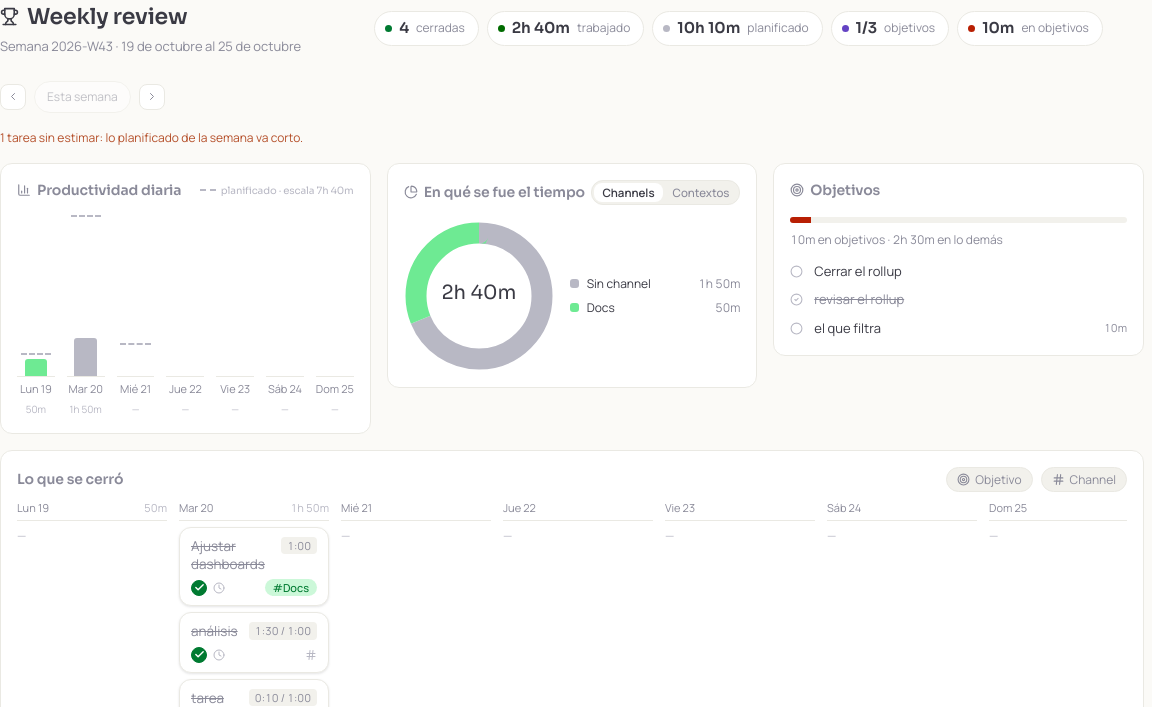
Test: WeeklyReviewView › hacer click en un objetivo filtra lo que se cerró
Click the button "el que filtra". click: (848,328)
box: [810,318,1097,339]
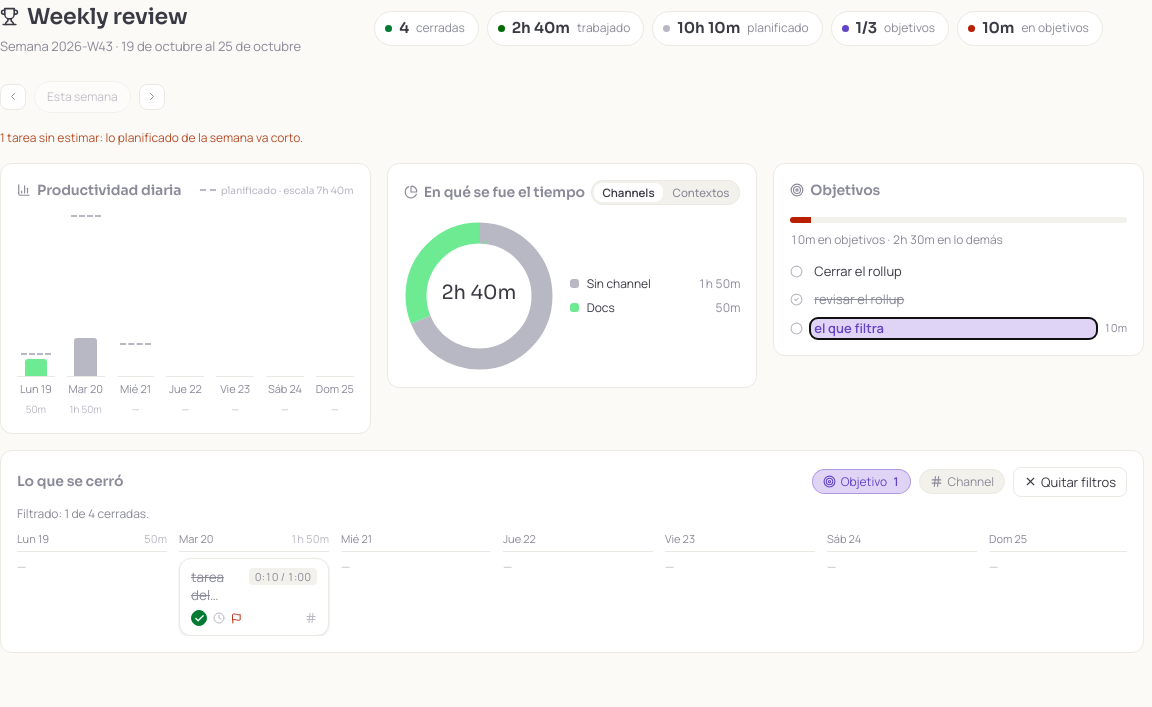
Expected: the text "tarea sin objetivo" is not shown
Expected: the text "tarea del objetivo" is shown, [191,568,241,604]
# Y el mismo click lo apaga.
Click the button "el que filtra". click: (849,328)
box: [810,318,1097,339]
(page scrolled)
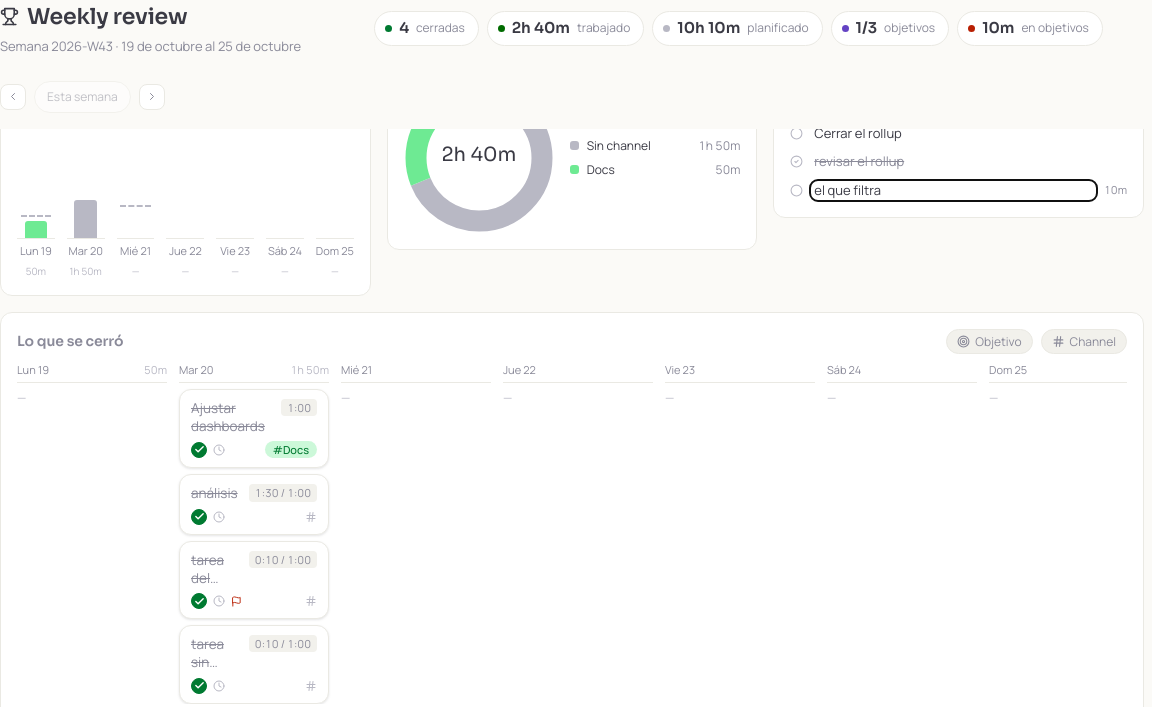
Expected: the text "tarea sin objetivo" is shown, [191,635,241,672]
